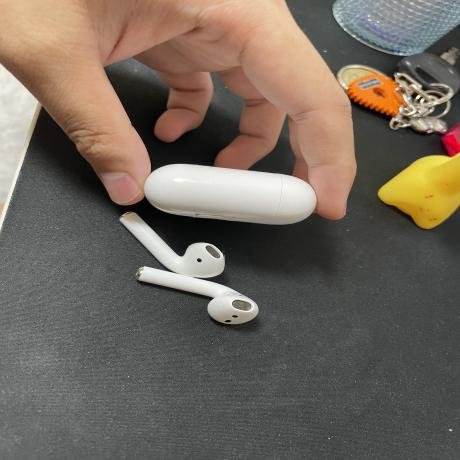airpod2: (119, 152, 322, 330)
